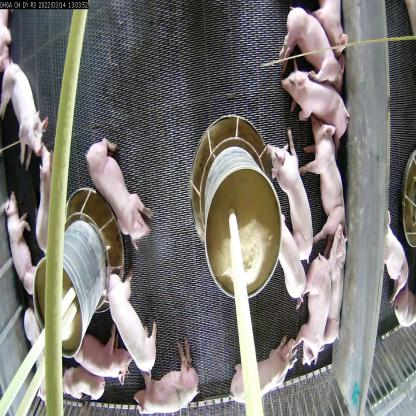Pig: (86, 126, 145, 256), (103, 263, 164, 376), (267, 126, 314, 268), (302, 111, 350, 243), (2, 59, 57, 170), (226, 342, 301, 415), (282, 0, 342, 91), (266, 192, 309, 313), (132, 348, 204, 415), (286, 59, 348, 134), (319, 229, 354, 360), (6, 186, 39, 311), (71, 317, 130, 385), (28, 140, 60, 253), (298, 250, 328, 358), (63, 356, 99, 412)
